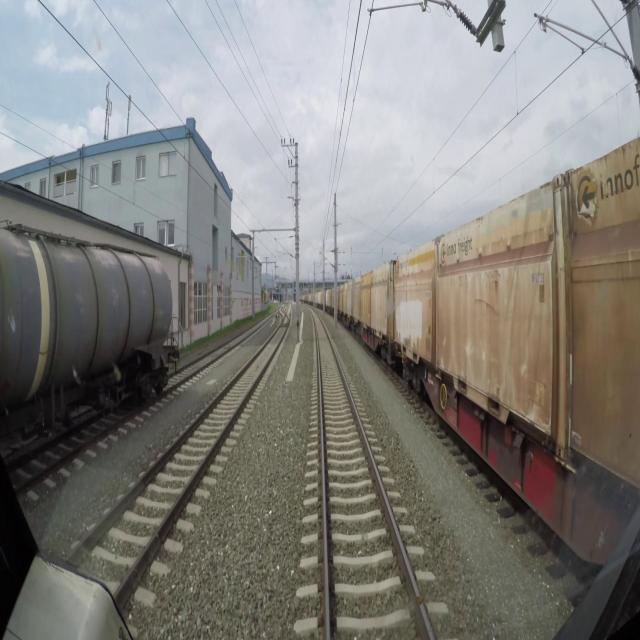rail-track: (74, 317, 286, 587), (313, 312, 429, 639), (170, 331, 248, 383)
